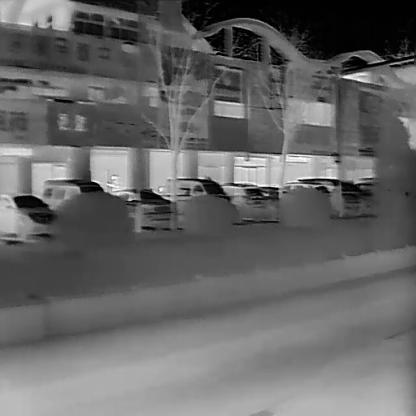car: (0, 193, 58, 242), (108, 187, 169, 230), (40, 178, 104, 216), (160, 177, 231, 204), (281, 177, 361, 198), (219, 182, 266, 211), (352, 176, 373, 197)
